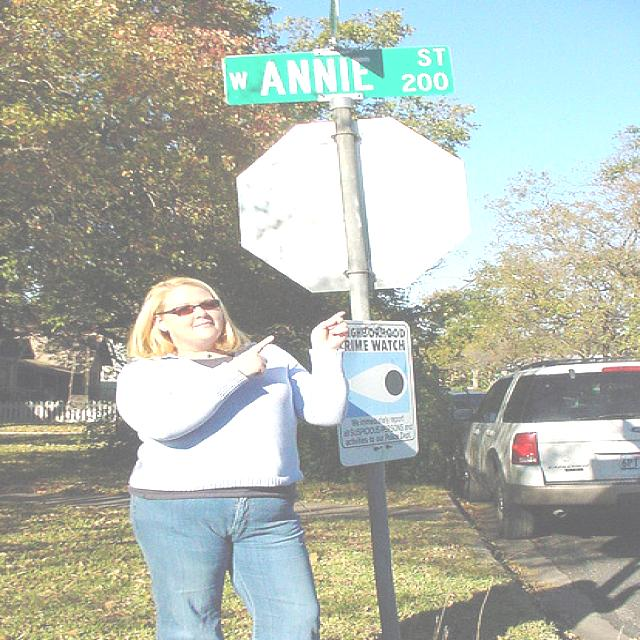Vehicle: (454, 357, 640, 541), (451, 389, 486, 414)
